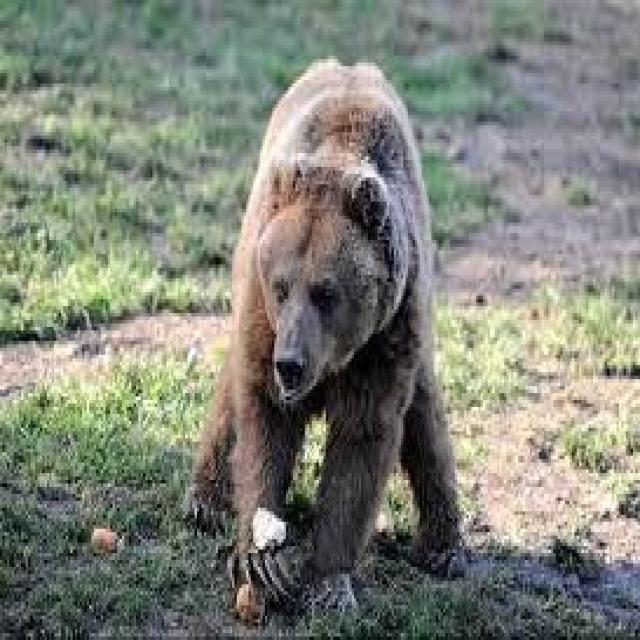Bear: (185, 59, 471, 626)
